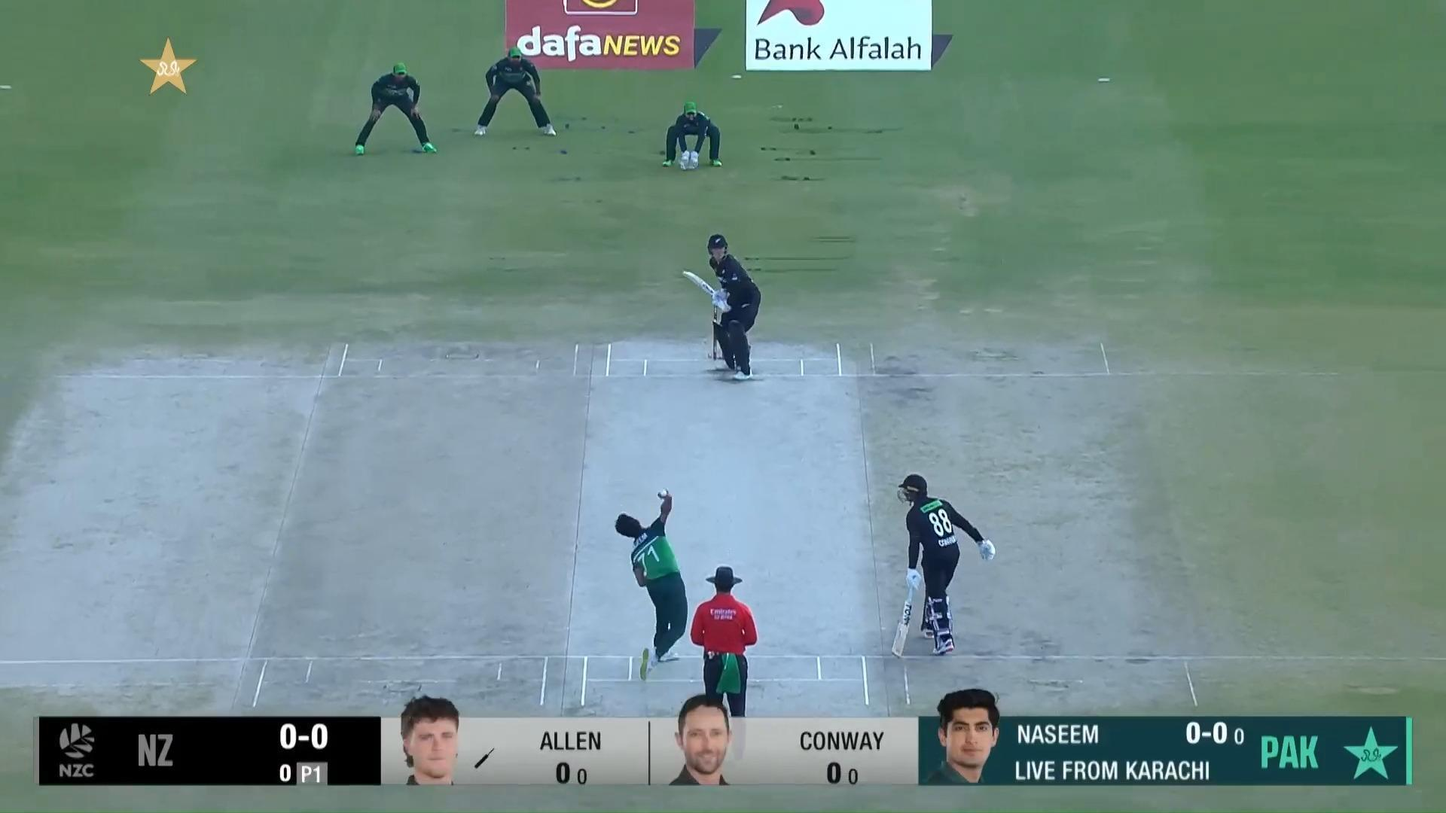BM 1: (681, 233, 762, 382)
BO: (613, 486, 690, 680)
